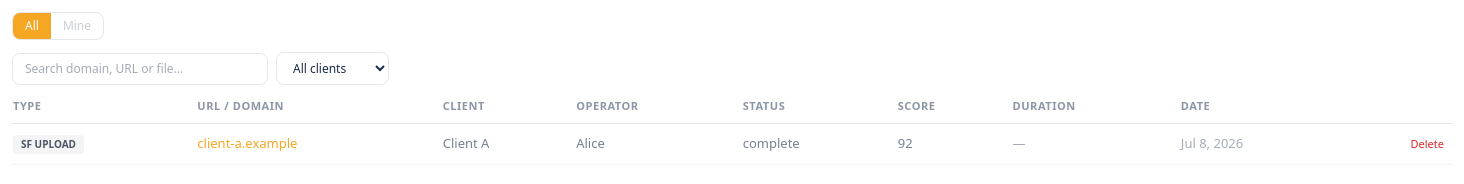
Test: RecentsTable › C16: sf-upload rows delete via two-step confirm → DELETE /api/parse/:id
Click the button with aria-label "delete client-a.example" at coordinates (1427, 144), box [1402,134,1452,154]
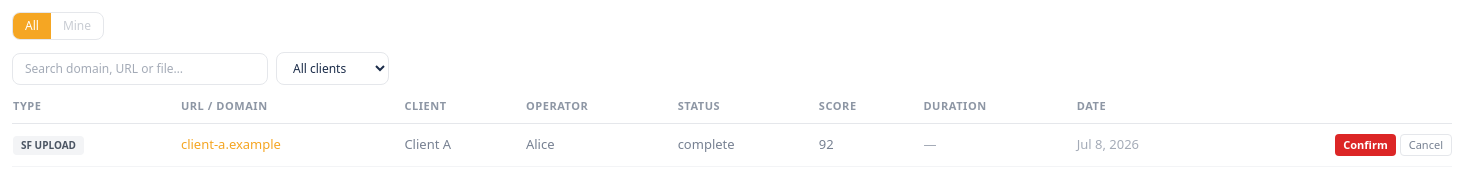
Click the button "Confirm" at coordinates (1366, 145), box [1335,134,1396,156]
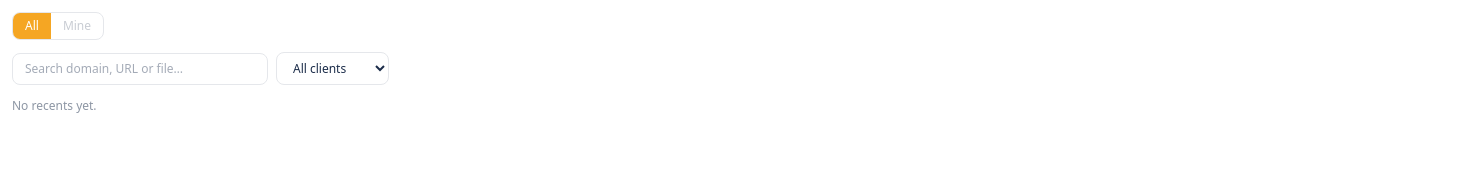
Check: the link "client-a.example" is gone
